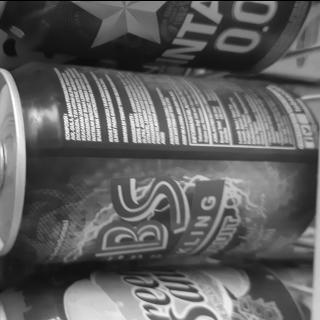alumunium_can: (0, 53, 320, 279)
